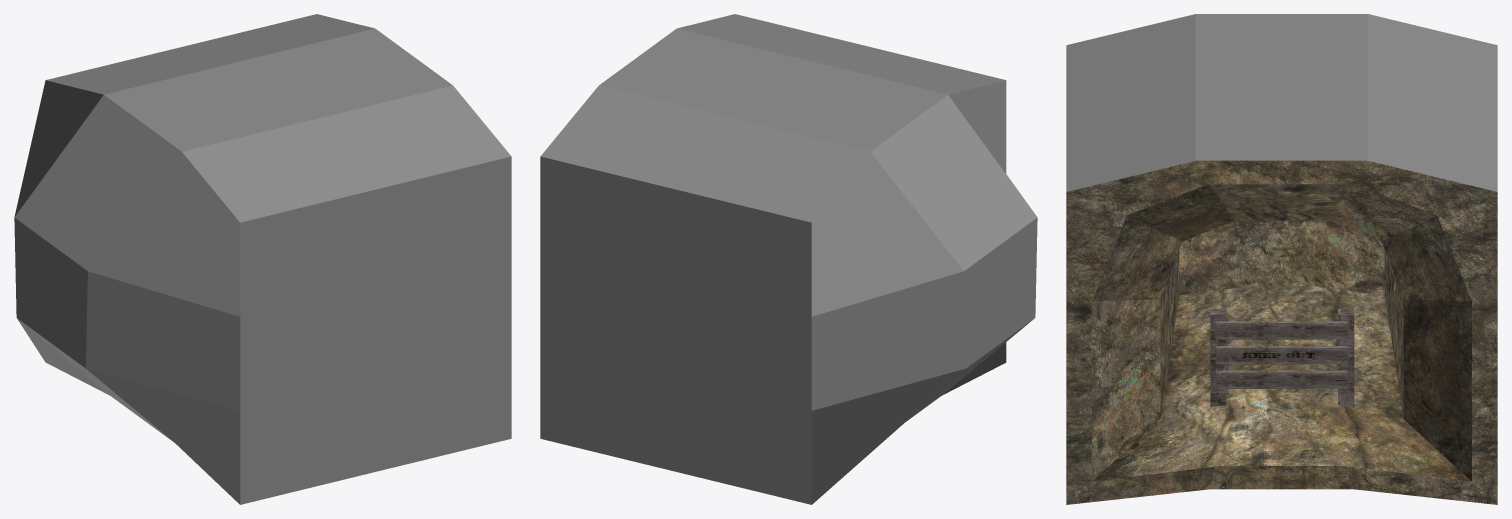
The model's file is svgoldmine01-2.dae.
3 renders of one model, left to right at view 1: azimuth 30°, elevation 25°; view 2: azimuth 150°, elevation 25°; view 3: azimuth 270°, elevation 25°, orthographic. The views are drawn at different scales.
Parts seen in each view (by area): view 1: unnamed_object1_sep50-0; view 2: unnamed_object1_sep50-0; view 3: unnamed_object1_sep50-0, unnamed_object1_sep1011-0, unnamed_object1_copy51-0, unnamed_object1_sep52-0.
Part boxes in pixels (x1,y1,x2,y2): unnamed_object1_sep50-0: [14, 14, 511, 504]; unnamed_object1_sep50-0: [540, 14, 1037, 504]; unnamed_object1_sep50-0: [1066, 14, 1497, 504]; unnamed_object1_sep1011-0: [1215, 321, 1348, 388]; unnamed_object1_copy51-0: [1338, 308, 1354, 407]; unnamed_object1_sep52-0: [1210, 308, 1226, 407].
Bounding box in the file's own units: 1615 × 1320 × 1500.
